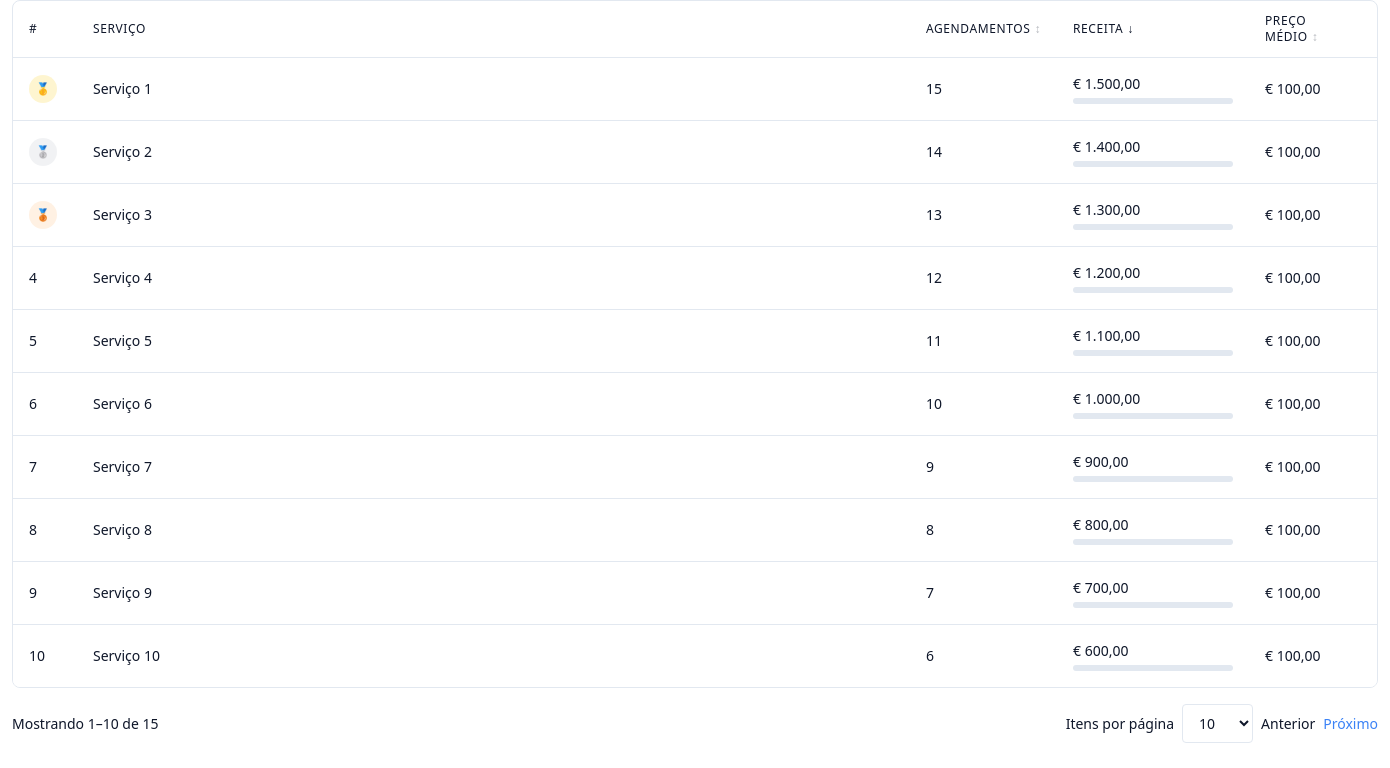
TopServices › paginação da tabela › usa PaginationControls com tamanho de página padrão (10)
The width and height of the screenshot is (1390, 768).
Expected: the text "Mostrando 1–10 de 15" is shown, [12,714,158,734]
What coordinates should you click on to do the following:
click the button "Próximo"
I would click on:
 (1351, 724)
Its box is [1323,714,1378,734].
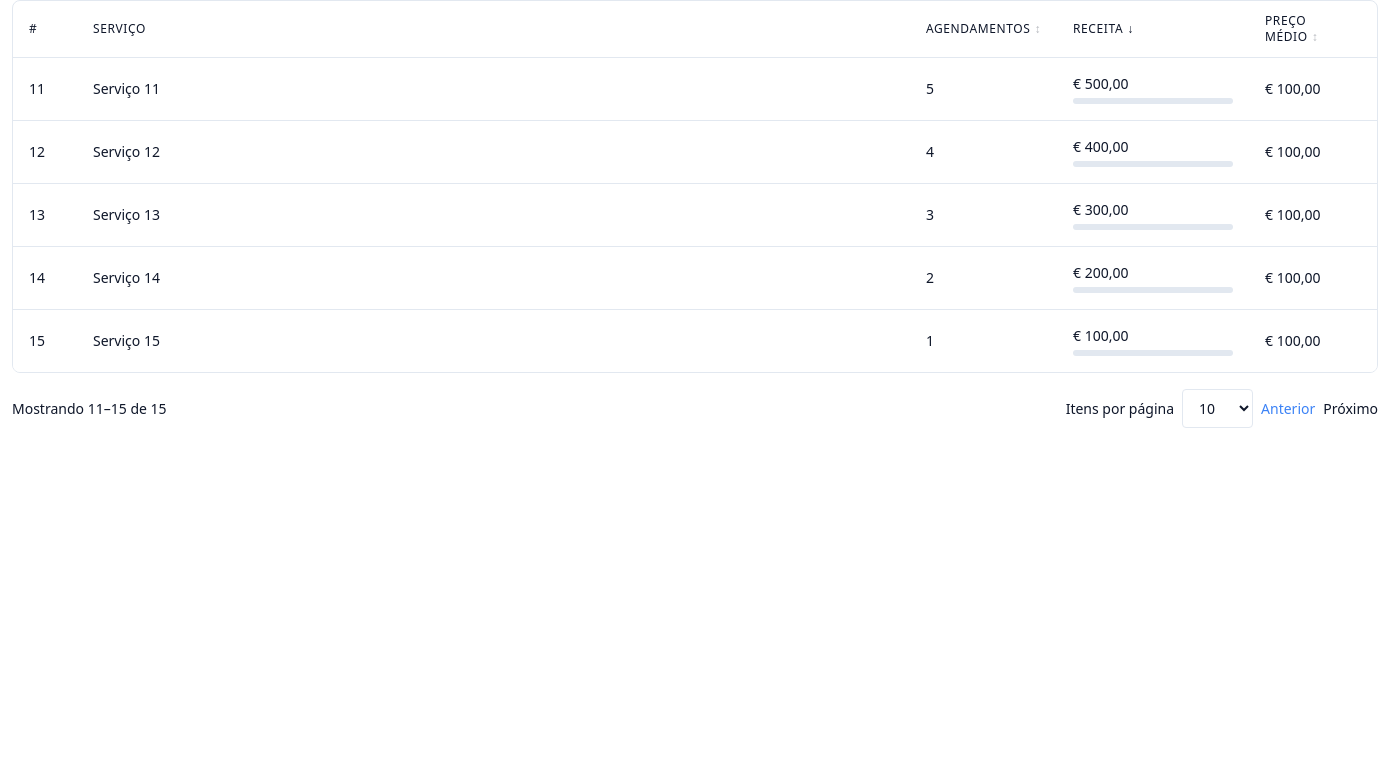
Expected: the number of rows is 6, [13,1,1377,58]; [13,58,1377,120]; [13,120,1377,184]; [13,184,1377,246]; [13,246,1377,310]; [13,310,1377,372]
Now the text "Mostrando 11–15 de 15" is shown, box [12,398,167,418]
Now the button "Próximo" is disabled, box [1323,398,1378,418]
What coordinates should you click on to do the following:
click the button "Anterior"
I would click on:
 (1288, 408)
Its box is [1261,398,1315,418].
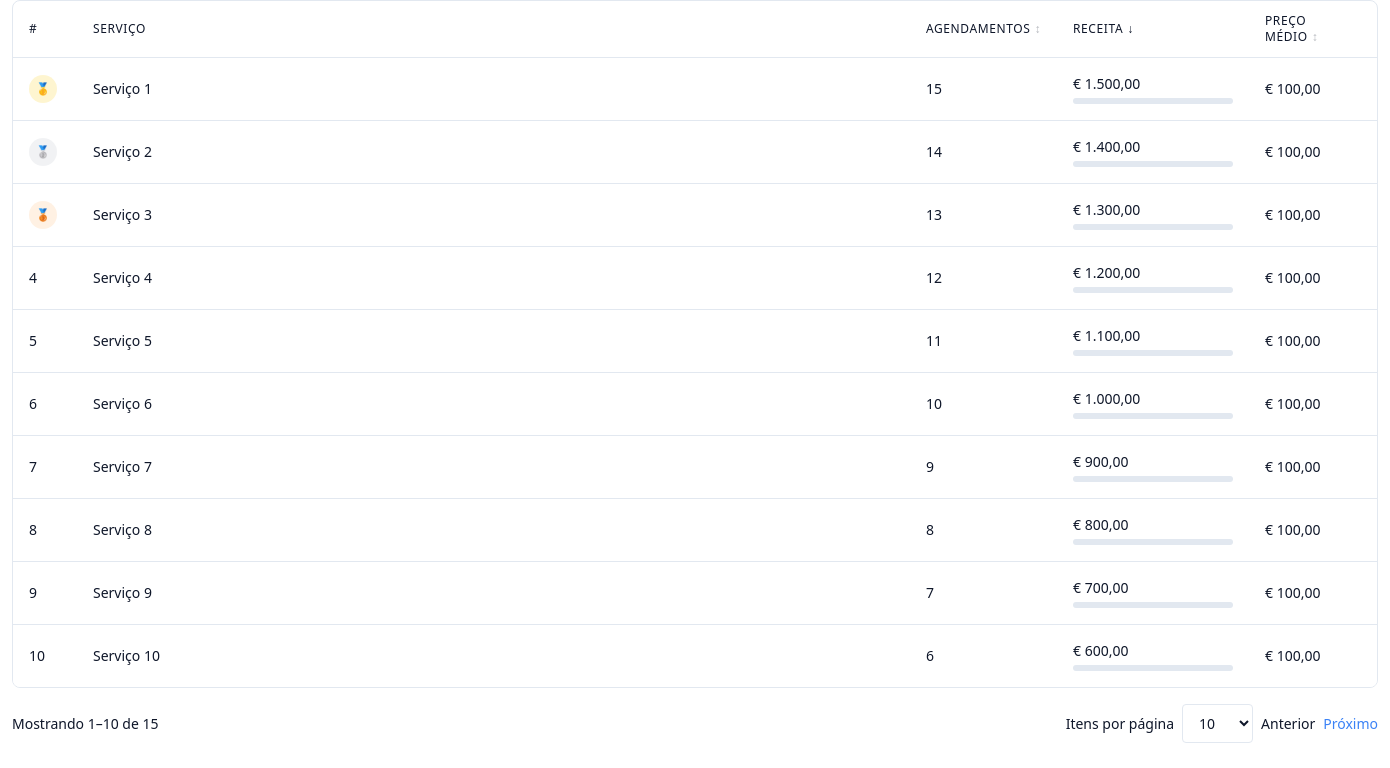
Now the text "Mostrando 1–10 de 15" is shown, box [12,714,158,734]
